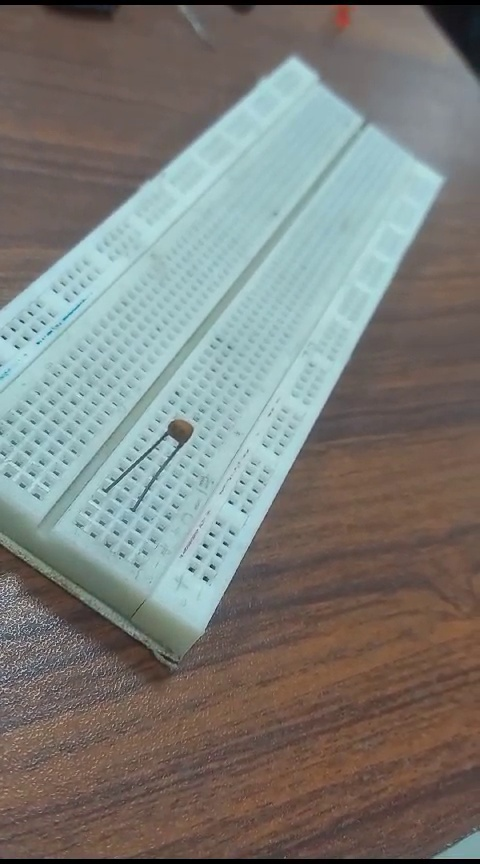ceramic capacitor: (104, 404, 195, 507)
